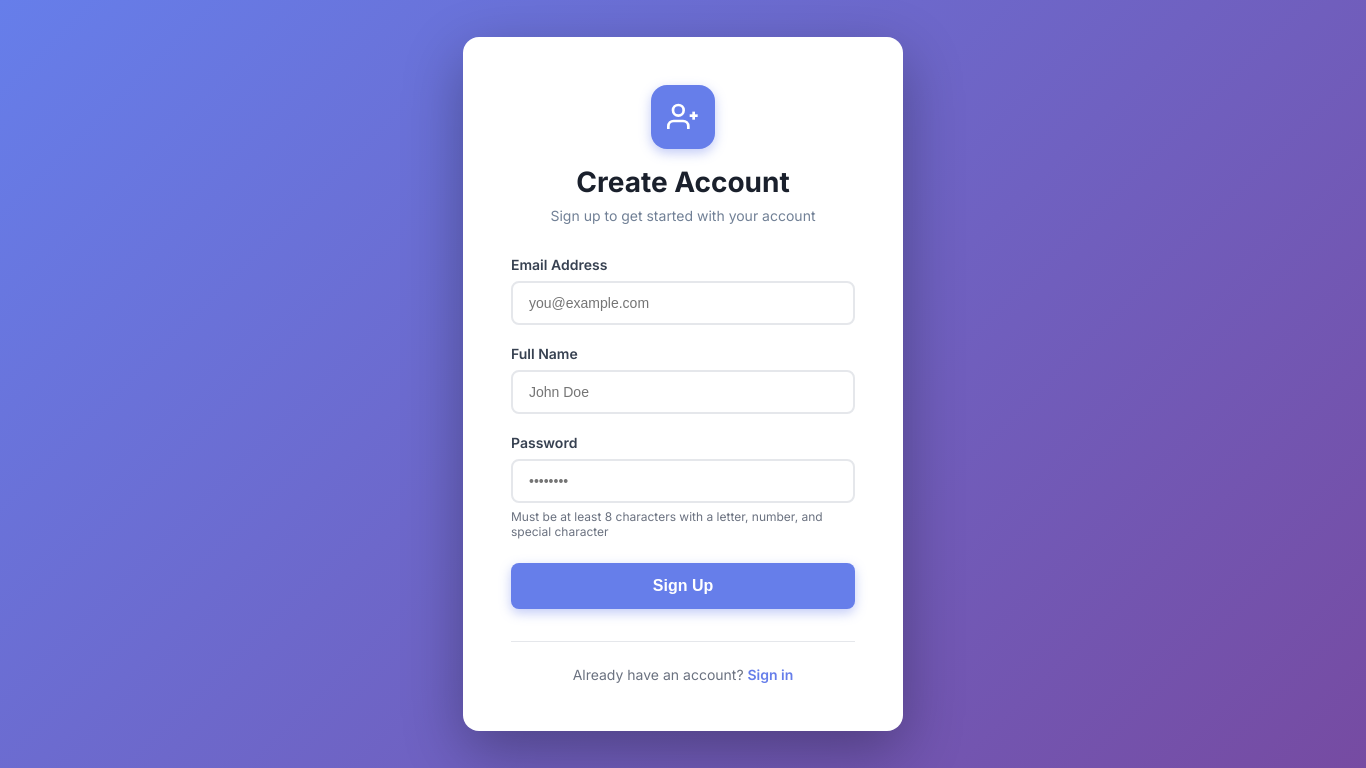
Scenario: SignupPage - Unit Tests › displays API error when signup fails
Step 1. Type "test@example.com" into the field labelled "Email Address" → (683, 303), box [511,281,855,325]
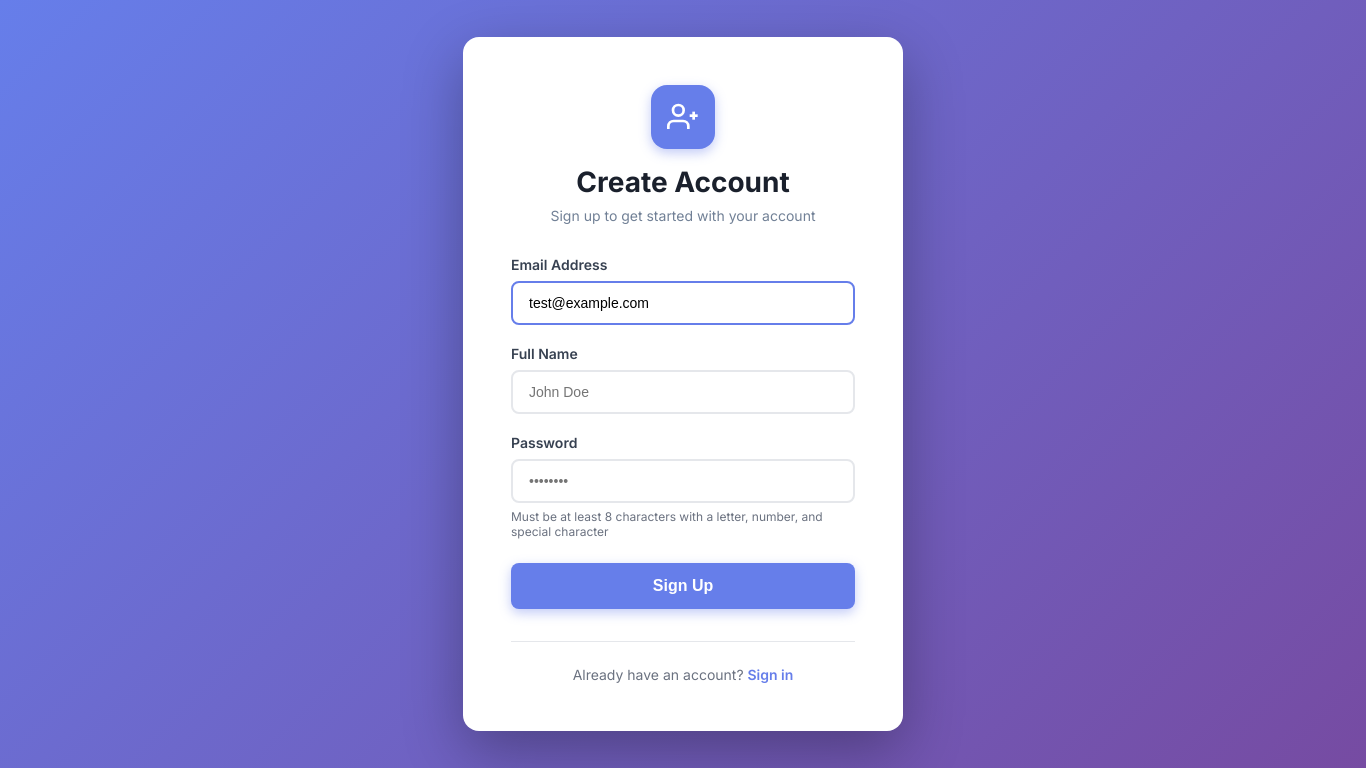
Step 2. Type "Test User" into the field labelled "Full Name" → (683, 392), box [511,370,855,414]
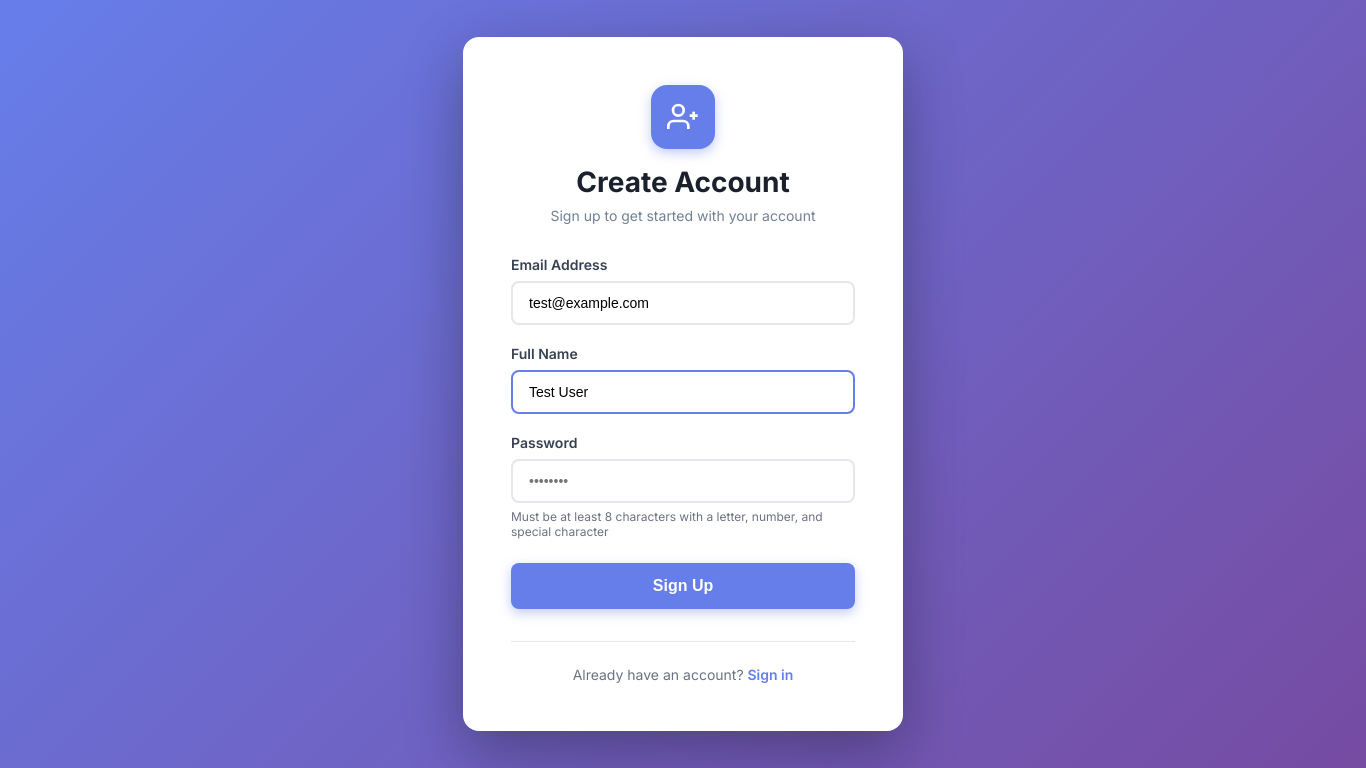
Step 3. Type "Password123!" into the password field labelled "Password" → (683, 481), box [511,459,855,503]
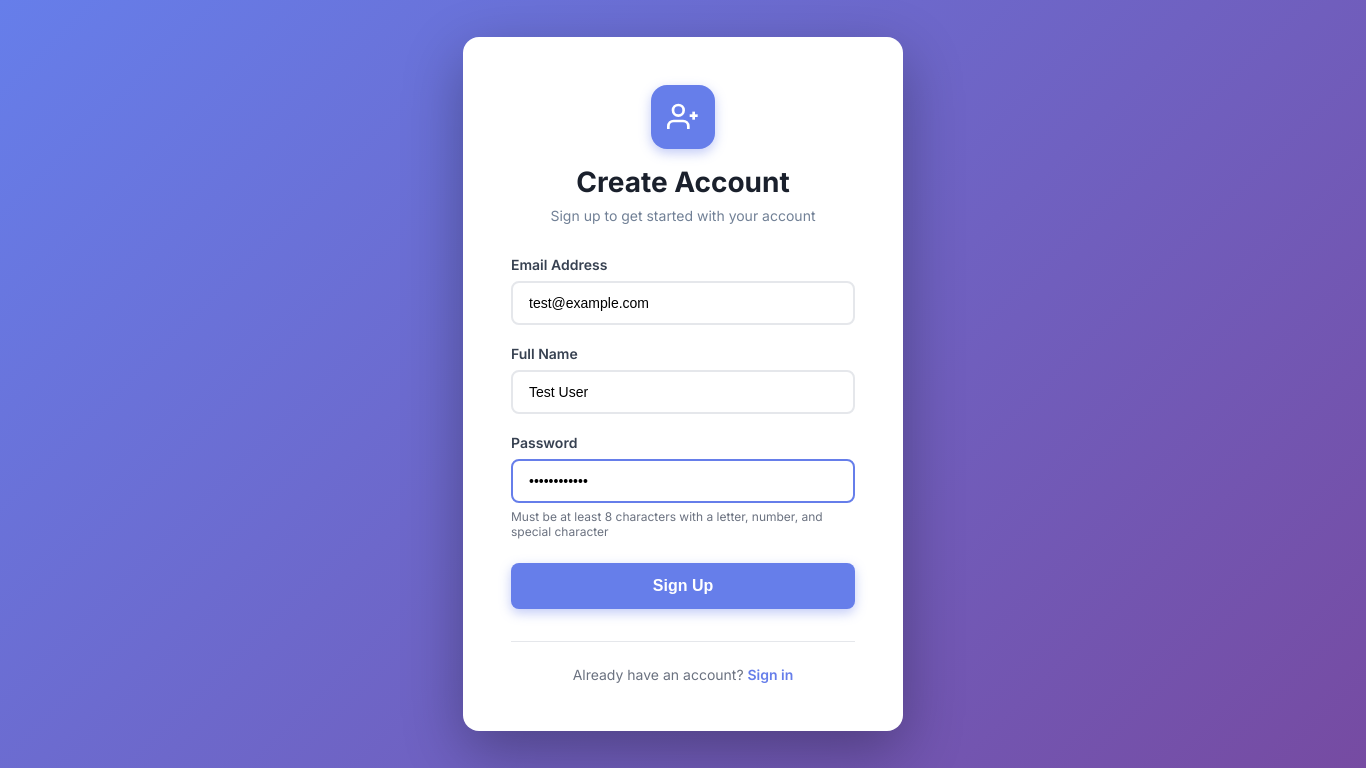
Step 4. Click the button "Sign Up" → (683, 586), box [511,563,855,609]
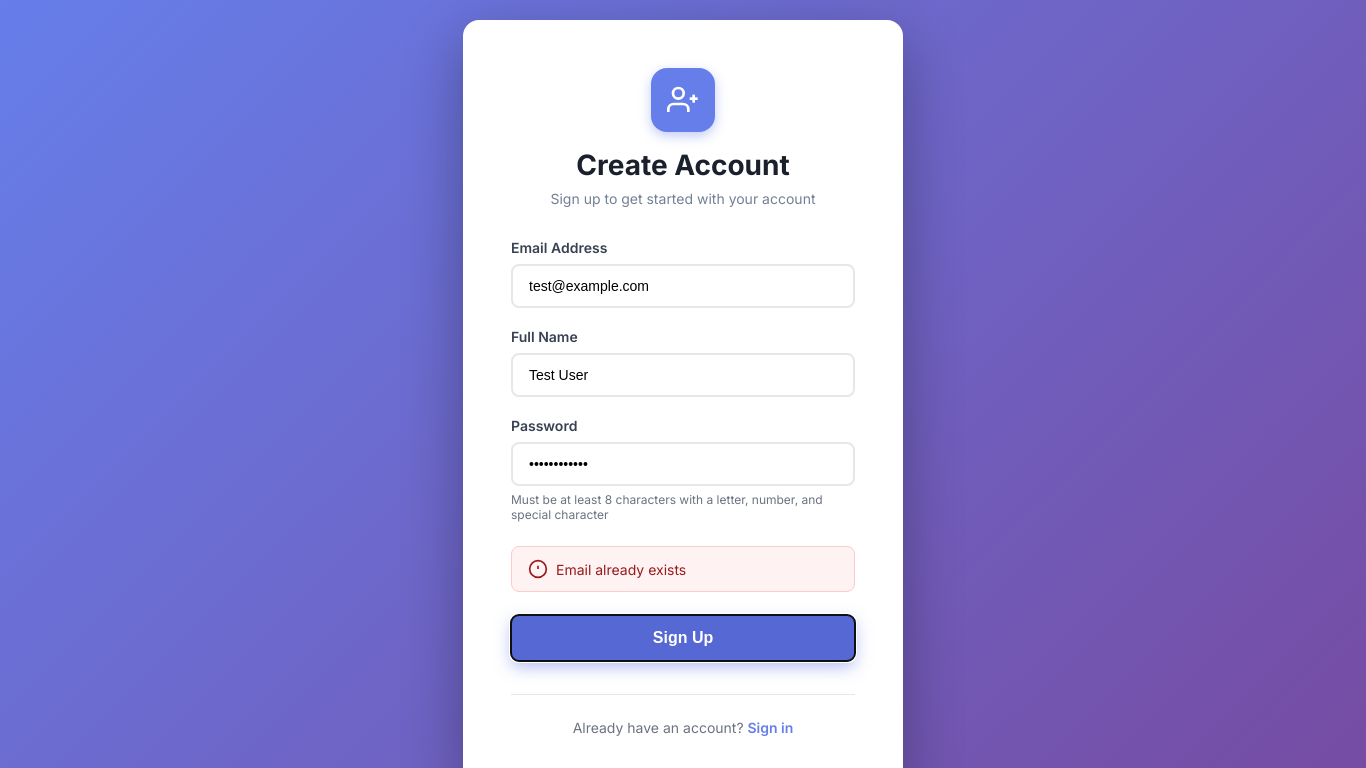
Check: the text "Email already exists" is shown, box [511,546,855,592]
